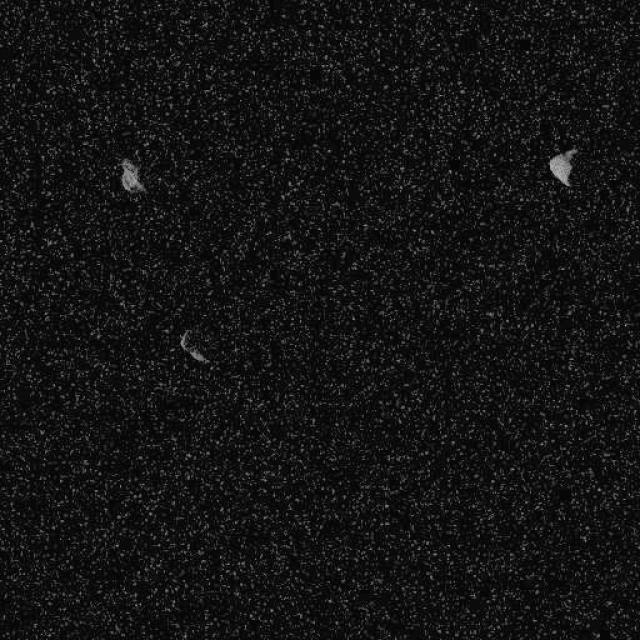D2: (548, 146, 578, 188), (179, 327, 210, 365), (118, 156, 146, 194)
